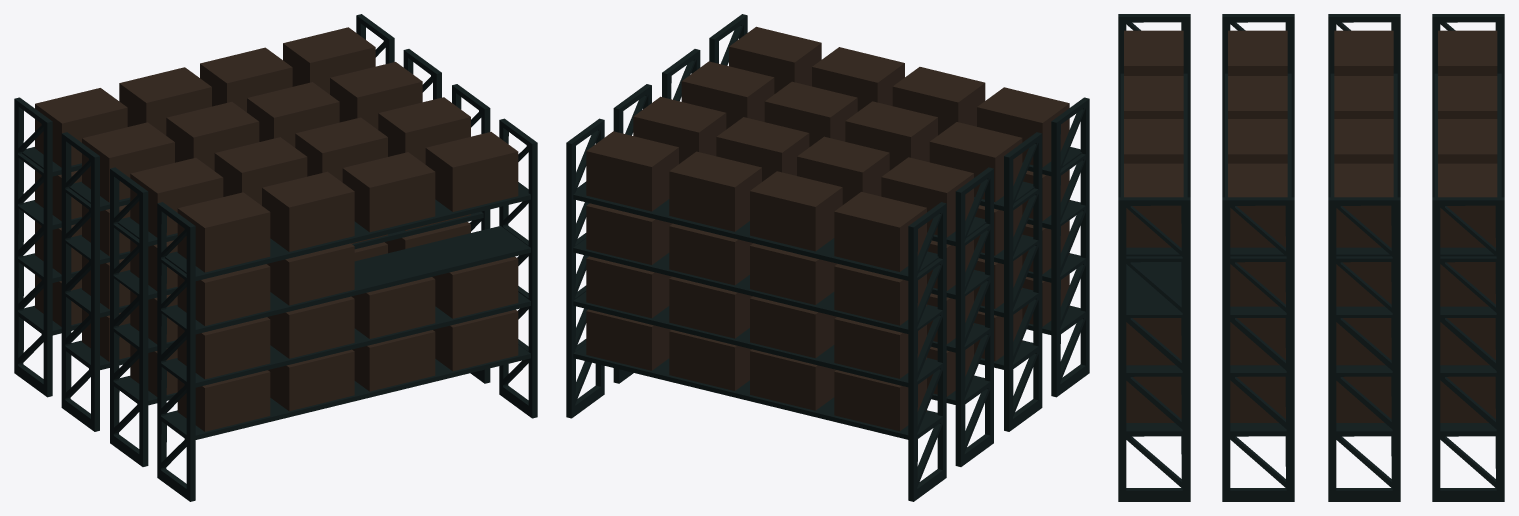
File: stockage.obj
3 renders of one model, left to right at view 1: azimuth 30°, elevation 25°; view 2: azimuth 150°, elevation 25°; view 3: azimuth 270°, elevation 25°, orthographic. The views are drawn at different scales.
Parts seen in each view (by area): view 1: Cube.14137_Cube.14170, Cube.14152_Cube.14185, Cube.14136_Cube.14169, Cube.14135_Cube.14168, Cube.14138_Cube.14171, Cube.14139_Cube.14172, Cube.14151_Cube.14184, Cube.14147_Cube.14180, Cube.14143_Cube.14176; view 2: Cube.14137_Cube.14170, Cube.14152_Cube.14185, Cube.14136_Cube.14169, Cube.14135_Cube.14168, Cube.14142_Cube.14175, Cube.14140_Cube.14173, Cube.14141_Cube.14174, Cube.14143_Cube.14176, Cube.14139_Cube.14172, Cube.14151_Cube.14184, Cube.14147_Cube.14180; view 3: Cube.14152_Cube.14185, Cube.14137_Cube.14170, Cube.14136_Cube.14169, Cube.14135_Cube.14168, Cube.14148_Cube.14181, Cube.14140_Cube.14173, Cube.14144_Cube.14177.
Boxes of the visible parts, x1,y1,x2,y2 form: Cube.14137_Cube.14170: [35, 27, 518, 272]; Cube.14152_Cube.14185: [14, 14, 537, 501]; Cube.14136_Cube.14169: [35, 221, 518, 379]; Cube.14135_Cube.14168: [35, 274, 518, 431]; Cube.14138_Cube.14171: [267, 243, 354, 305]; Cube.14139_Cube.14172: [177, 264, 270, 325]; Cube.14151_Cube.14184: [130, 240, 177, 290]; Cube.14147_Cube.14180: [82, 205, 130, 256]; Cube.14143_Cube.14176: [35, 170, 81, 220]; Cube.14137_Cube.14170: [586, 26, 1069, 271]; Cube.14152_Cube.14185: [566, 14, 1089, 501]; Cube.14136_Cube.14169: [586, 220, 1069, 378]; Cube.14135_Cube.14168: [586, 274, 1069, 431]; Cube.14142_Cube.14175: [750, 243, 837, 304]; Cube.14140_Cube.14173: [586, 203, 672, 264]; Cube.14141_Cube.14174: [669, 223, 752, 285]; Cube.14143_Cube.14176: [834, 264, 926, 325]; Cube.14139_Cube.14172: [1022, 170, 1069, 220]; Cube.14151_Cube.14184: [974, 204, 1022, 255]; Cube.14147_Cube.14180: [927, 240, 973, 290]; Cube.14152_Cube.14185: [1118, 14, 1504, 501]; Cube.14137_Cube.14170: [1124, 30, 1497, 247]; Cube.14136_Cube.14169: [1126, 318, 1495, 365]; Cube.14135_Cube.14168: [1126, 376, 1495, 422]; Cube.14148_Cube.14181: [1230, 262, 1285, 306]; Cube.14140_Cube.14173: [1440, 262, 1495, 306]; Cube.14144_Cube.14177: [1336, 262, 1391, 306].
Bounding box in the file's own units: 3.48 × 2.63 × 3.05.
